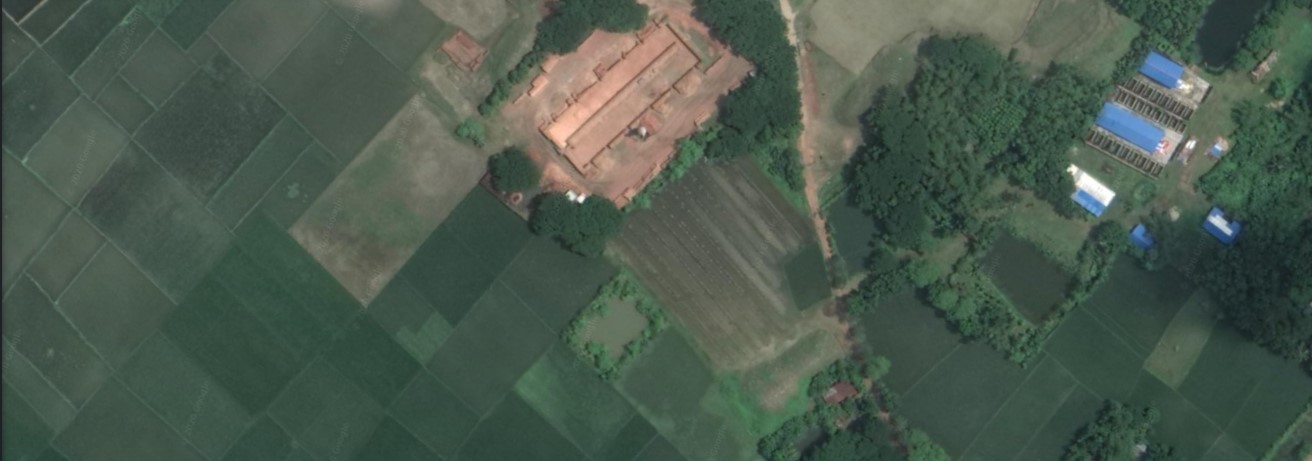kiln: (558, 84, 679, 160)
